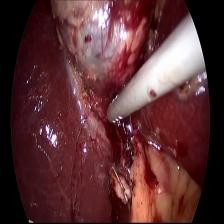Irrigator: (105, 85, 129, 130)
